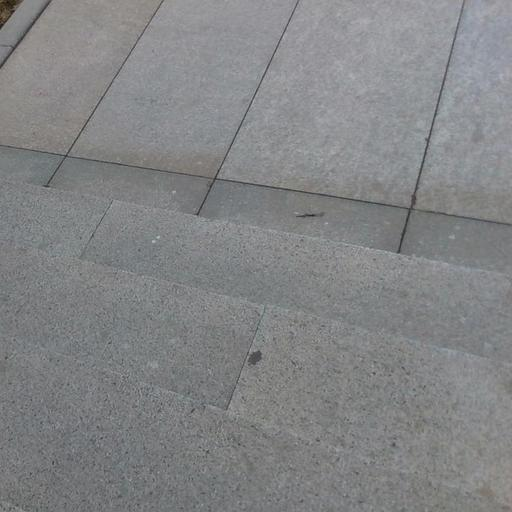stairs: (0, 181, 511, 511)
